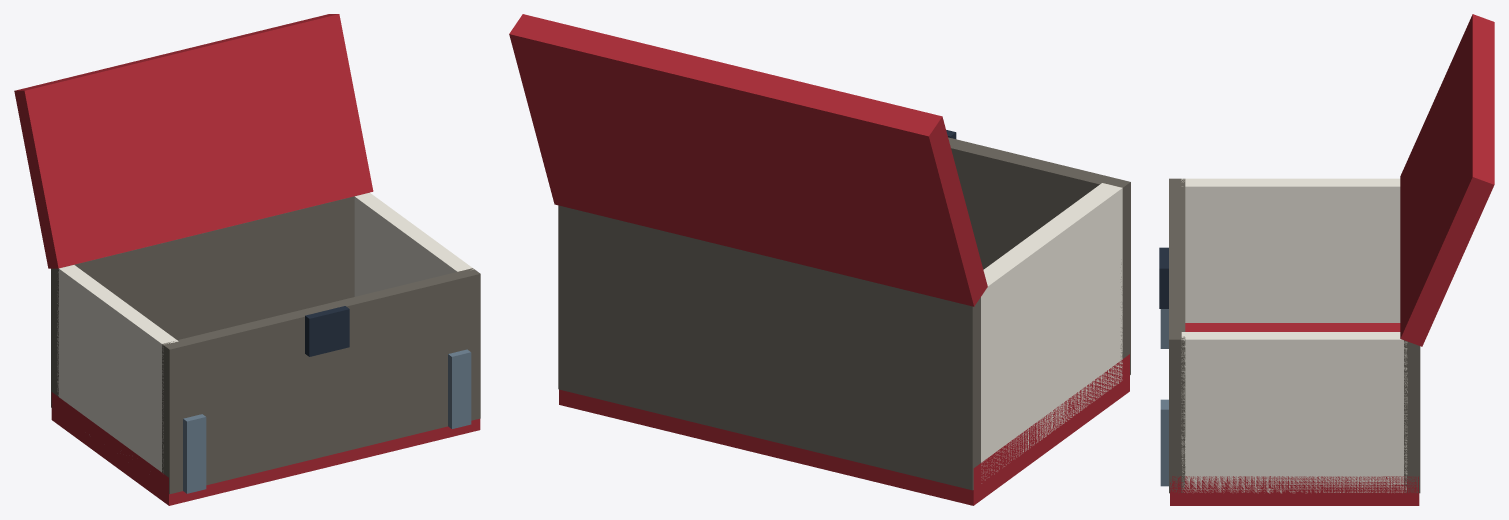
3 renders of one model, left to right at view 1: azimuth 30°, elevation 25°; view 2: azimuth 150°, elevation 25°; view 3: azimuth 270°, elevation 25°, orthographic. The views are drawn at different scales.
Parts seen in each view (by area): view 1: raised lid, panel 0.5, panel -0.5, end panel -0.77, floor, end panel 0.77, clasp, corner 0.69, corner -0.69; view 2: raised lid, panel -0.5, end panel -0.77, floor, panel 0.5; view 3: end panel 0.77, end panel -0.77, raised lid, floor, panel 0.5, panel -0.5, corner 0.69, clasp.
Part boxes in pixels (left/top/right/bottom): raised lid: left=14, top=14, right=373, bottom=268; panel 0.5: left=162, top=268, right=480, bottom=494; panel -0.5: left=51, top=195, right=356, bottom=407; end panel -0.77: left=57, top=265, right=178, bottom=472; floor: left=51, top=392, right=480, bottom=505; end panel 0.77: left=354, top=192, right=473, bottom=296; clasp: left=305, top=306, right=349, bottom=356; corner 0.69: left=448, top=349, right=471, bottom=428; corner -0.69: left=183, top=414, right=206, bottom=493; raised lid: left=509, top=14, right=987, bottom=306; panel -0.5: left=558, top=205, right=980, bottom=490; end panel -0.77: left=981, top=183, right=1122, bottom=483; floor: left=559, top=354, right=1129, bottom=505; panel 0.5: left=948, top=137, right=1130, bottom=377; end panel 0.77: left=1181, top=332, right=1407, bottom=493; end panel -0.77: left=1181, top=178, right=1400, bottom=322; raised lid: left=1400, top=14, right=1494, bottom=346; floor: left=1170, top=323, right=1419, bottom=505; panel 0.5: left=1169, top=178, right=1185, bottom=493; panel -0.5: left=1404, top=340, right=1420, bottom=493; corner 0.69: left=1160, top=399, right=1168, bottom=486; clasp: left=1159, top=247, right=1168, bottom=308.
Bounding box in the file's own units: 1.64 × 1.55 × 1.42.
